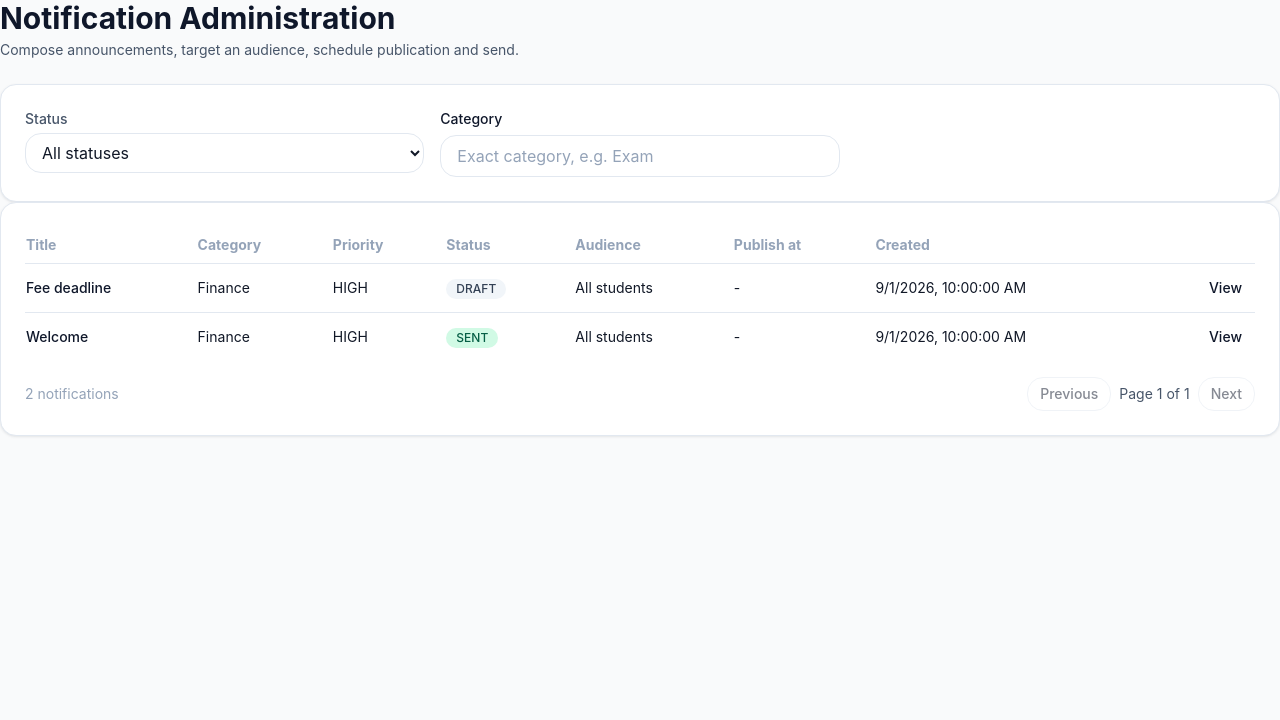
Test case: NotificationAdminPage › opens a detail view
Click the button with aria-label "View Fee deadline". click: point(1225, 288)
box: [1197, 272, 1254, 304]
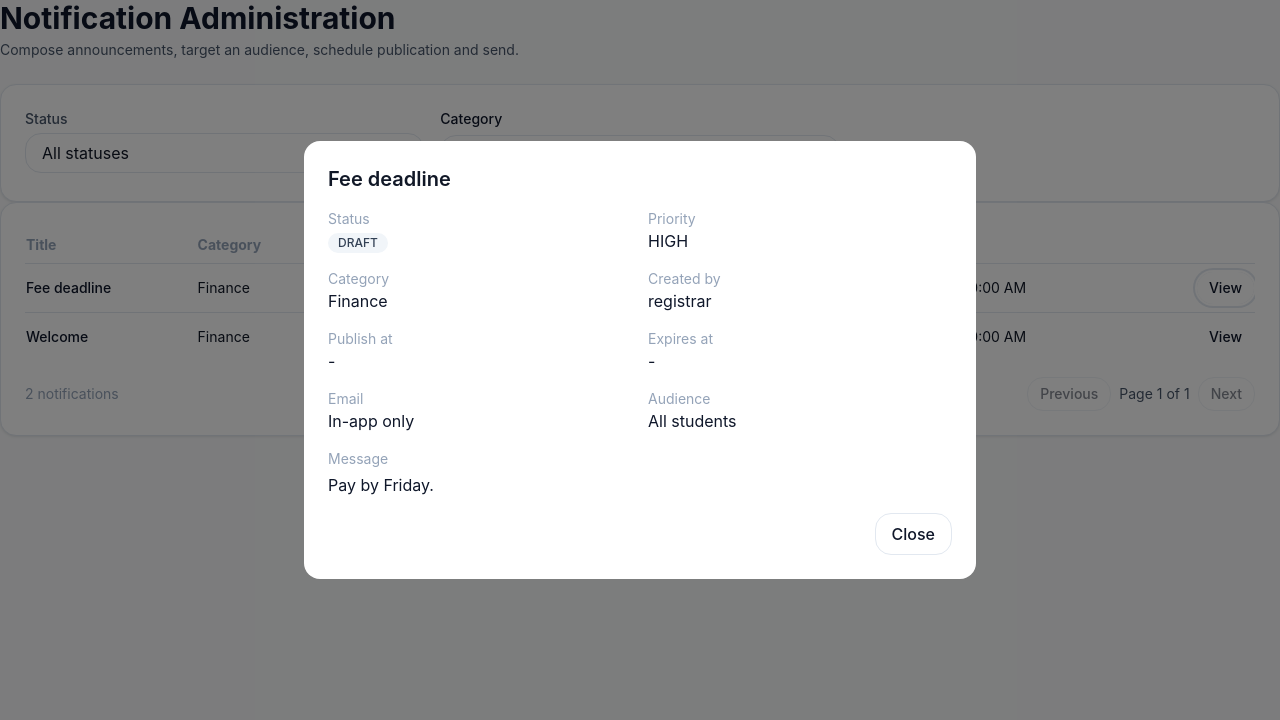
Now the text "Pay by Friday." is shown, box [328, 475, 434, 495]
Now the text "registrar" is shown, box [648, 291, 712, 311]
